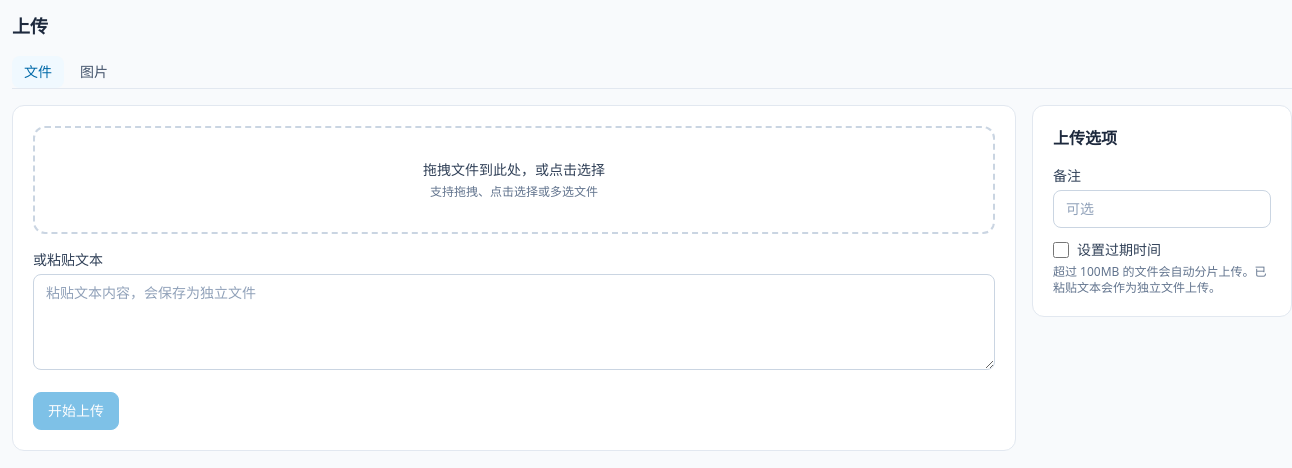
Test case: Upload expiry › offers the configured days when the box is ticked on a page that starts without expiry
Expected: the field labelled "过期天数（从今天起）" is not shown
Click the checkbox.
click(1061, 250)  # box [1053,242,1069,258]
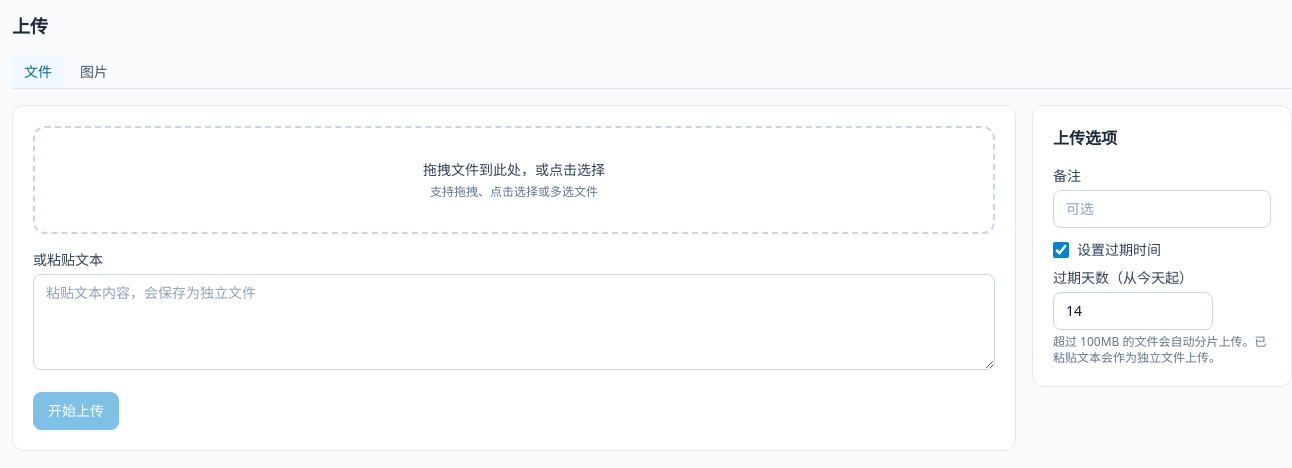
Now the number field labelled "过期天数（从今天起）" holds "14", box [1053,292,1213,330]
